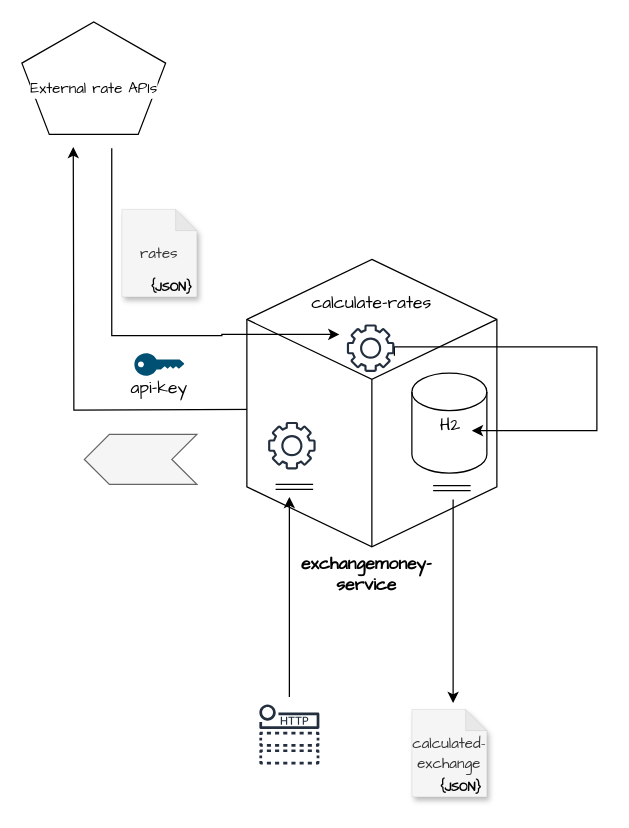
Some shapes in this 629 by 828 pixel diagram are drawn without their labels. The centre of each missing label's shape, as x and y in pixels:
"HTTP" goes at [289,734].
"HTTP requests" goes at [140,458].
